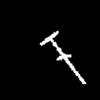double_crochet: (40, 31, 85, 83)
